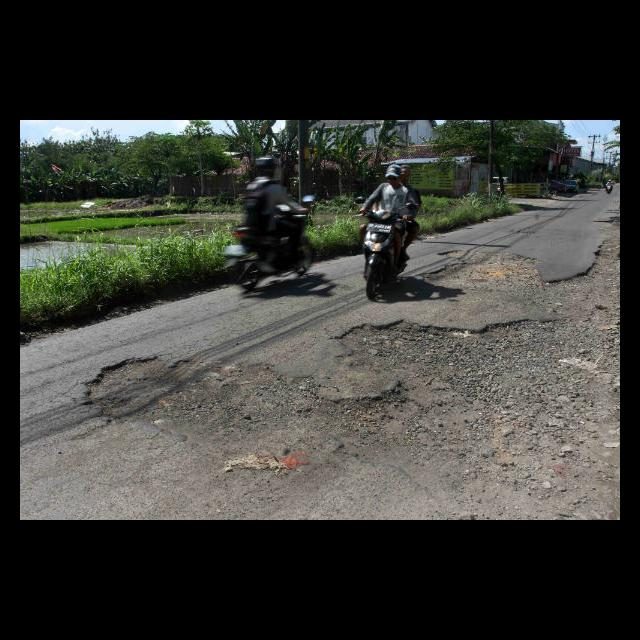lubang_kecil: (65, 346, 408, 466), (324, 301, 560, 406), (422, 242, 590, 304)
